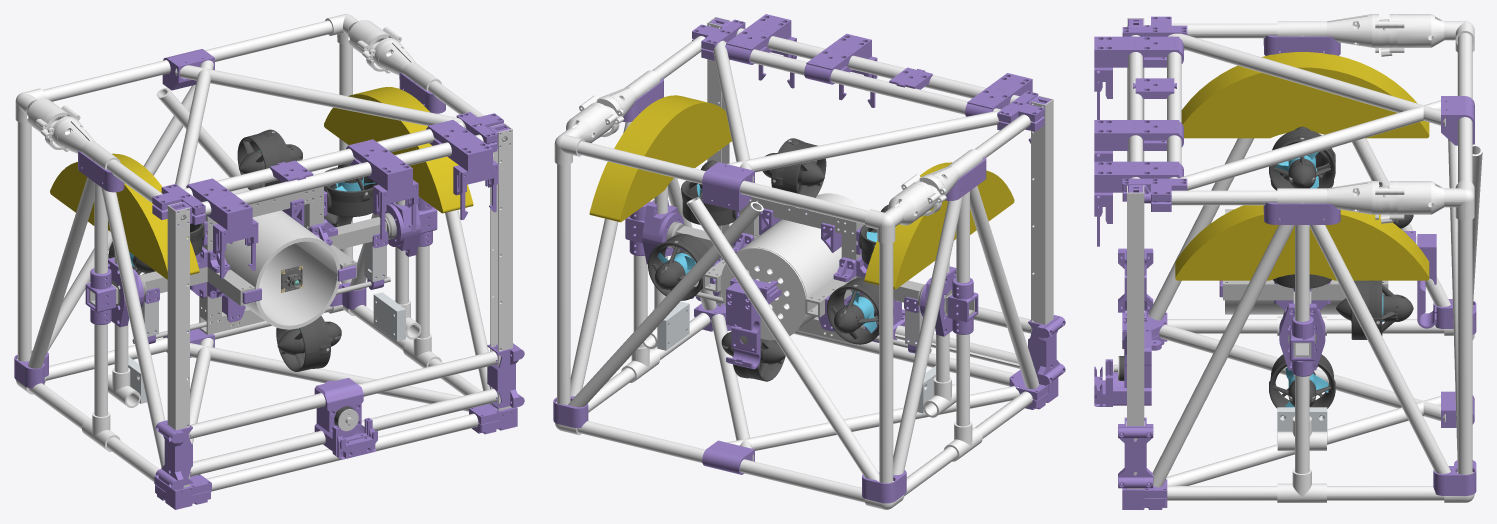
The model's file is ConduitSimplified.glb.
3 renders of one model, left to right at view 1: azimuth 30°, elevation 25°; view 2: azimuth 150°, elevation 25°; view 3: azimuth 270°, elevation 25°, orthographic. The views are drawn at different scales.
Visible parts, largest first — view 1: Acrylic Hull, foam_ARM, U Channel-Mirrored, foam_ARM.001, U Channel, SDR 13.5 1/2" PVC, Slotted SDR 13.5 1/2" PVC, 1/2_in_PVC_Pipe.029, 1/2_in_PVC_Pipe.026, 1/2_in_PVC_Pipe.009, 1/2_in_PVC_Pipe.028, 1/2_in_PVC_Pipe.015 (+65 smaller); view 2: foam_ARM, 1/2_in_PVC_Pipe.024, U Channel-Mirrored, foam_ARM.001, 1/2_in_PVC_Pipe.004, Acrylic Hull, 1/2_in_PVC_Pipe.010, 1/2_in_PVC_Pipe.009, 1/2_in_PVC_Pipe.021, 1/2_in_PVC_Pipe.006, 1/2_in_PVC_Pipe.028, Backplate (+60 smaller); view 3: foam_ARM.001, foam_ARM, 1/2_in_PVC_Pipe.005, U Channel, 1/2_in_PVC_Pipe.018, 1/2_in_PVC_Pipe.020, 1/2_in_PVC_Pipe.010, 1/2_in_PVC_Pipe.029, 1/2_in_PVC_Pipe.016, 1/2_in_PVC_Pipe.030, 1/2_in_PVC_Pipe.026, 1/2_in_PVC_Pipe.009 (+61 smaller).
Boxes of the visible parts, x1,y1,x2,y2 form: Acrylic Hull: (224, 187, 340, 329); foam_ARM: (324, 87, 473, 213); U Channel-Mirrored: (167, 202, 189, 487); foam_ARM.001: (50, 153, 199, 279); U Channel: (490, 123, 512, 410); SDR 13.5 1/2" PVC: (190, 351, 497, 438); Slotted SDR 13.5 1/2" PVC: (190, 388, 497, 476); 1/2_in_PVC_Pipe.029: (175, 65, 479, 128); 1/2_in_PVC_Pipe.026: (101, 187, 165, 467); 1/2_in_PVC_Pipe.009: (43, 20, 332, 101); 1/2_in_PVC_Pipe.028: (17, 122, 31, 361); 1/2_in_PVC_Pipe.015: (206, 413, 478, 491); foam_ARM: (589, 95, 731, 222); 1/2_in_PVC_Pipe.024: (686, 197, 879, 481); U Channel-Mirrored: (1031, 96, 1053, 384); foam_ARM.001: (864, 162, 1014, 289); 1/2_in_PVC_Pipe.004: (893, 196, 963, 475); Acrylic Hull: (736, 193, 863, 332); 1/2_in_PVC_Pipe.010: (727, 110, 1001, 172); 1/2_in_PVC_Pipe.009: (577, 141, 867, 223); 1/2_in_PVC_Pipe.021: (568, 202, 763, 407); 1/2_in_PVC_Pipe.006: (577, 421, 864, 502); 1/2_in_PVC_Pipe.028: (879, 242, 893, 483); Backplate: (720, 247, 806, 340); foam_ARM.001: (1181, 52, 1429, 138); foam_ARM: (1175, 205, 1429, 280); 1/2_in_PVC_Pipe.005: (1152, 225, 1294, 487); U Channel: (1127, 185, 1144, 488); 1/2_in_PVC_Pipe.018: (1309, 225, 1450, 473); 1/2_in_PVC_Pipe.020: (1457, 219, 1472, 474); 1/2_in_PVC_Pipe.010: (1168, 33, 1445, 126); 1/2_in_PVC_Pipe.029: (1177, 100, 1440, 190); 1/2_in_PVC_Pipe.016: (1165, 396, 1440, 485); 1/2_in_PVC_Pipe.030: (1159, 324, 1445, 421); 1/2_in_PVC_Pipe.026: (1148, 138, 1253, 320); 1/2_in_PVC_Pipe.009: (1458, 33, 1472, 182).
Size of the model in its own units: 0.6345 by 0.5146 by 0.5626.
